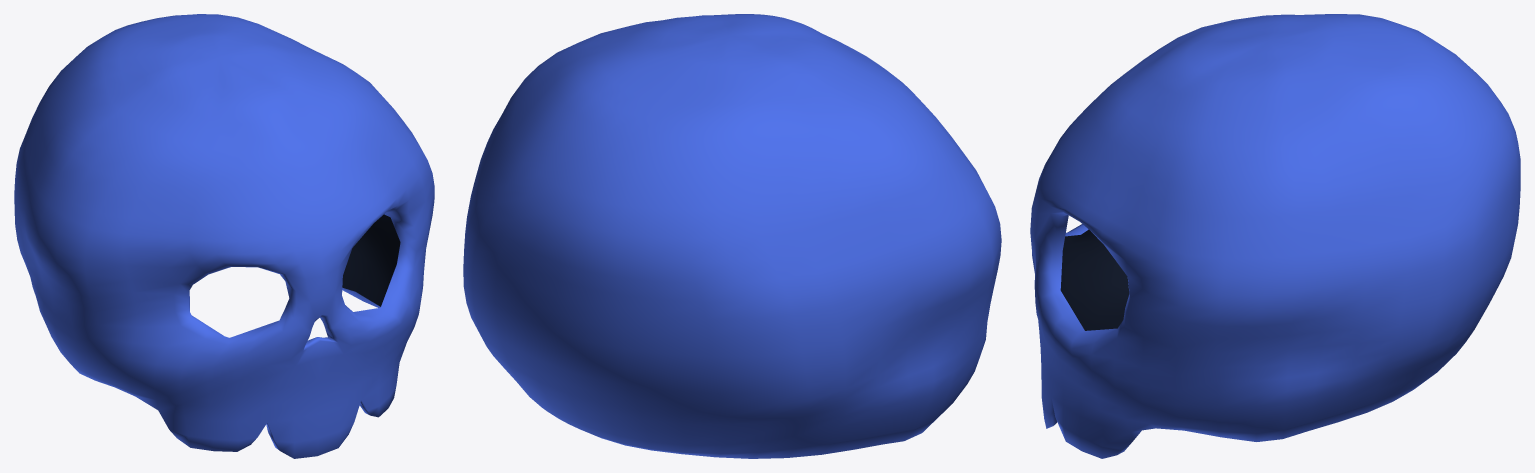
Rendered from SUGAR SKULL model.fbx.
3 renders of one model, left to right at view 1: azimuth 30°, elevation 25°; view 2: azimuth 150°, elevation 25°; view 3: azimuth 270°, elevation 25°, orthographic. The views are drawn at different scales.
Visible parts, largest first — view 1: pasted__polySurface96; view 2: pasted__polySurface96; view 3: pasted__polySurface96.
Part boxes in pixels (x1=…): pasted__polySurface96: x1=14, y1=14, x2=434, y2=458; pasted__polySurface96: x1=463, y1=14, x2=1001, y2=458; pasted__polySurface96: x1=1030, y1=14, x2=1520, y2=458.
Size of the model in its own units: 7.07 by 6.02 by 7.05.
